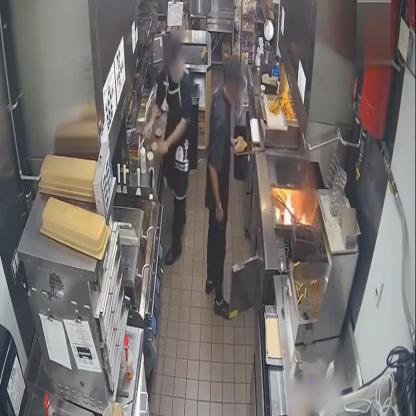fire: (282, 192, 296, 224), (299, 209, 308, 224)
